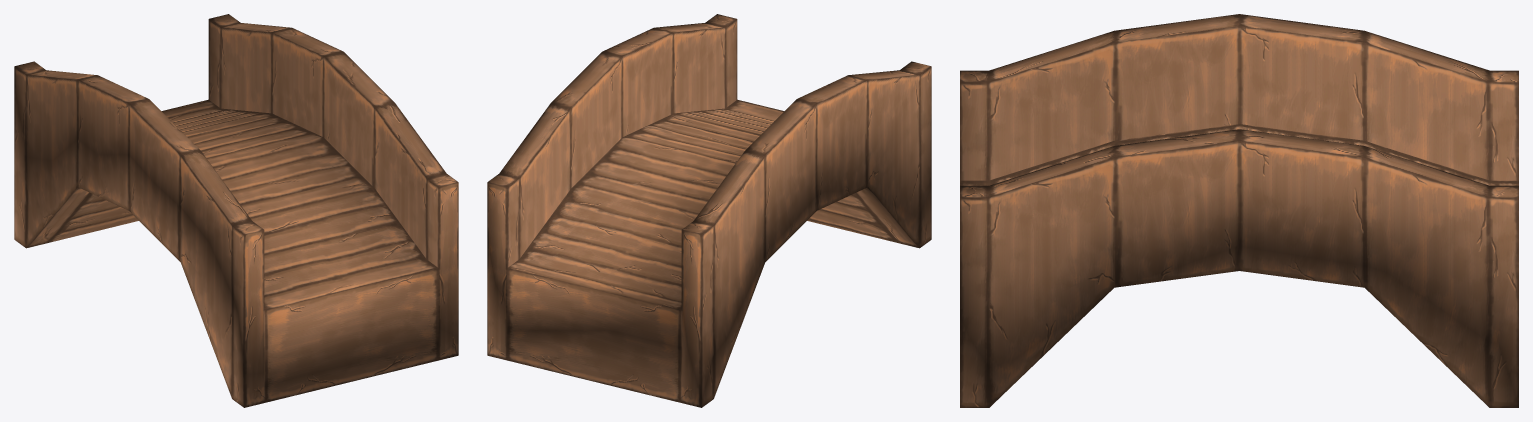
The model's file is Bridge.fbx.
3 views of the same model, side by side, from view 1: azimuth 30°, elevation 25°; view 2: azimuth 150°, elevation 25°; view 3: azimuth 270°, elevation 25° (orthographic). The views are drawn at different scales.
Parts seen in each view (by area): view 1: Bridge; view 2: Bridge; view 3: Bridge.
Part boxes in pixels (x1,y1,x2,y2): Bridge: [14, 14, 458, 407]; Bridge: [487, 14, 931, 407]; Bridge: [960, 14, 1518, 407].
Size of the model in its own units: 420 by 411 by 780.
